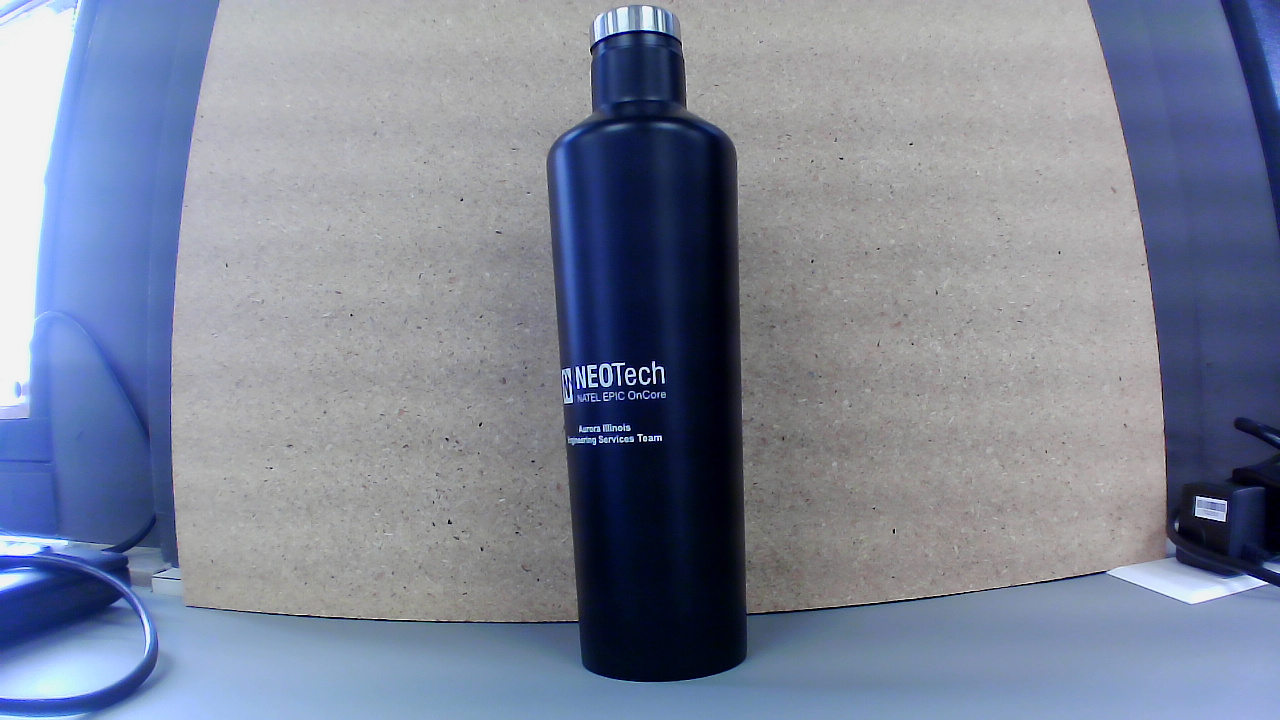neobottle: (543, 2, 759, 690)
